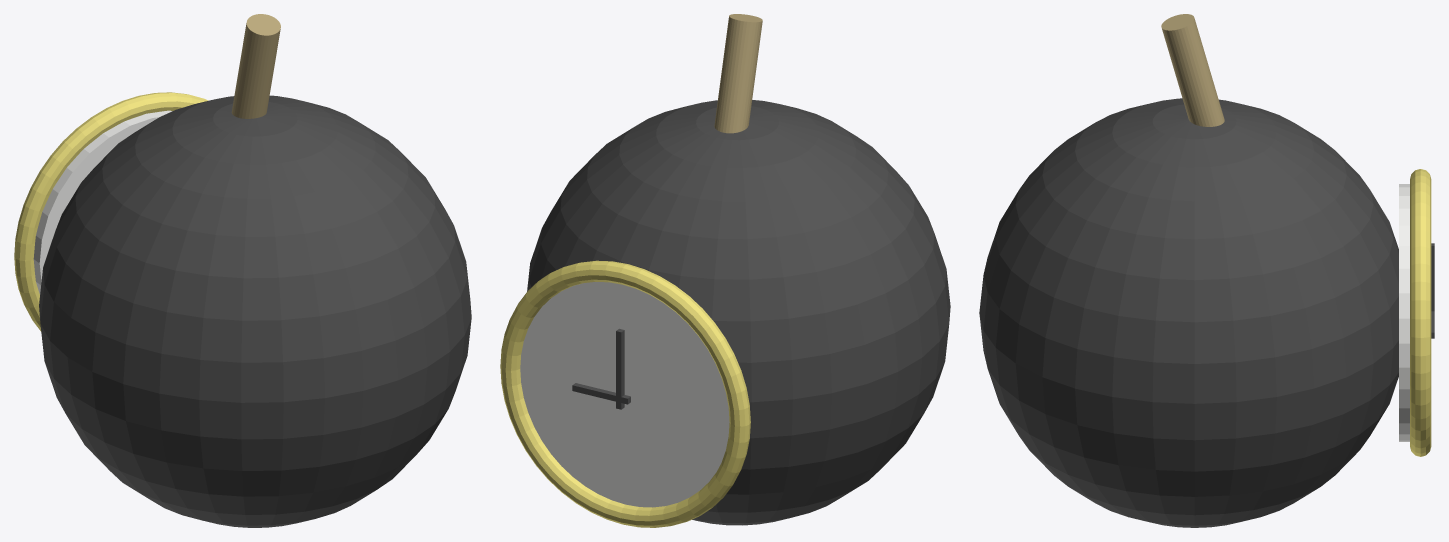
Rendered from time_bomb.glb.
3 renders of one model, left to right at view 1: azimuth 30°, elevation 25°; view 2: azimuth 150°, elevation 25°; view 3: azimuth 270°, elevation 25°, orthographic.
Visible parts, largest first — view 1: Bomb, ClockRim, ClockFace, Fuse; view 2: Bomb, ClockFace, ClockRim, Fuse, HourHand, MinuteHand; view 3: Bomb, ClockRim, Fuse, ClockFace.
Boxes of the visible parts, x1,y1,x2,y2 form: Bomb: (39,95,471,527); ClockRim: (14,92,208,331); ClockFace: (33,110,172,294); Fuse: (231,14,280,118); Bomb: (527,100,950,525); ClockFace: (520,282,729,507); ClockRim: (500,260,750,527); Fuse: (714,14,762,133); HourHand: (616,328,624,409); MinuteHand: (572,383,630,404); Bomb: (979,98,1398,527); ClockRim: (1410,169,1431,456); Fuse: (1161,14,1224,126); ClockFace: (1399,184,1409,441).
Bounding box in the file's own units: 0.2 × 0.251 × 0.2115.
